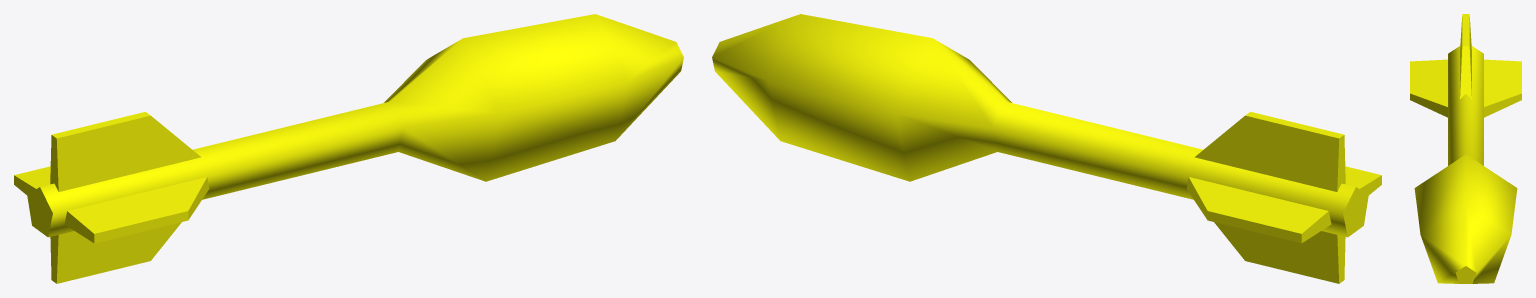
Rendered from projectile_rocket.glb.
The picture shows the model from 3 angles, left to right: view 1: azimuth 30°, elevation 25°; view 2: azimuth 150°, elevation 25°; view 3: azimuth 270°, elevation 25°; orthographic projection. The views are drawn at different scales.
Parts seen in each view (by area): view 1: projectile_rocket; view 2: projectile_rocket; view 3: projectile_rocket.
Boxes of the visible parts, left/top/right/bottom form: projectile_rocket: left=14, top=14, right=683, bottom=283; projectile_rocket: left=712, top=14, right=1381, bottom=283; projectile_rocket: left=1410, top=14, right=1521, bottom=283.
Size of the model in its own units: 0.8488 by 0.1854 by 0.1854.
Materials: 1 (1 with a texture image).
